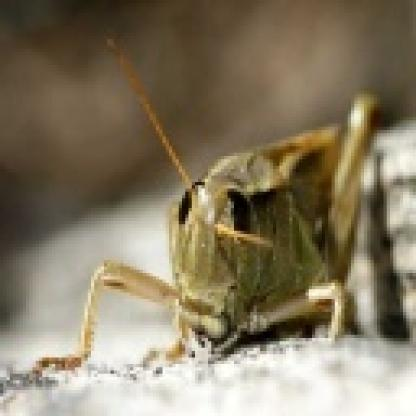grasshopper: (50, 67, 396, 369)
